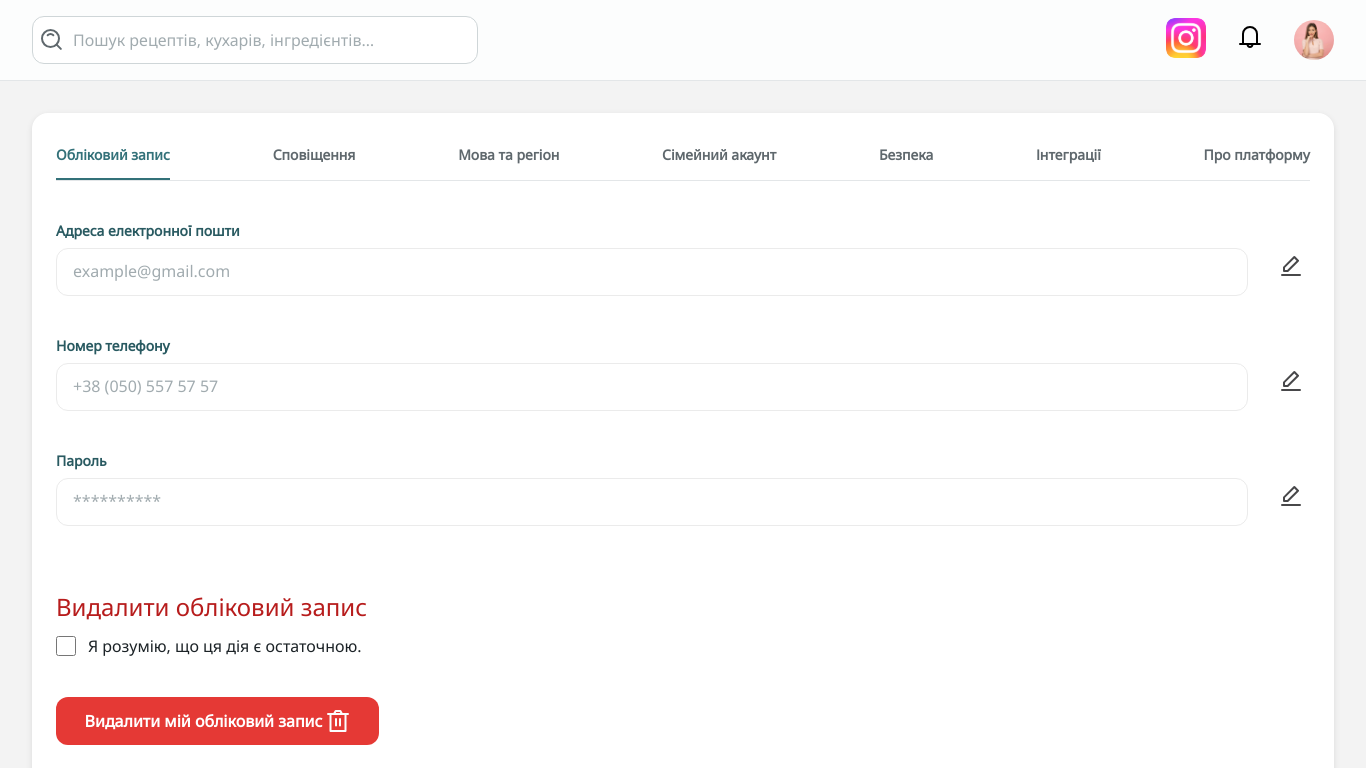
SettingsPage full tests › renders notification types
The width and height of the screenshot is (1366, 768).
Click the list item "Сповіщення".
click(314, 154)  # box [273, 145, 355, 164]
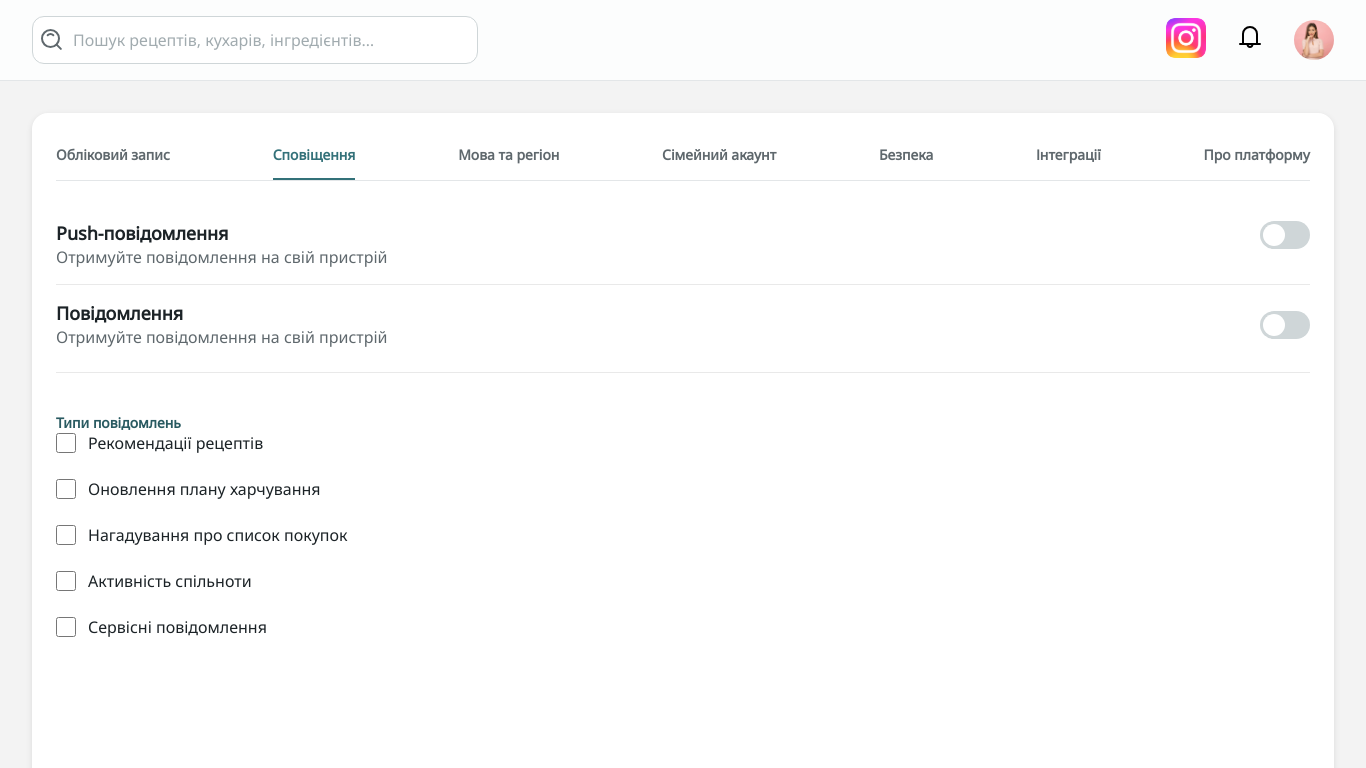
expect the heading "Типи повідомлень" is shown: met, box [56, 413, 181, 432]
expect the text "Рекомендації рецептів" is shown: met, box [88, 432, 263, 454]
